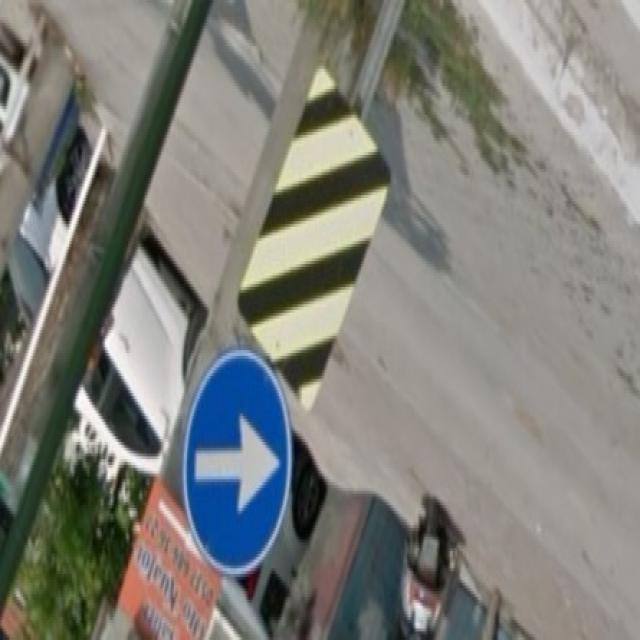Turn Right: (180, 343, 292, 575)
